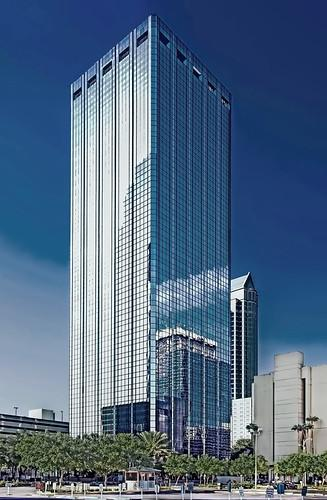building: (61, 10, 238, 483)
